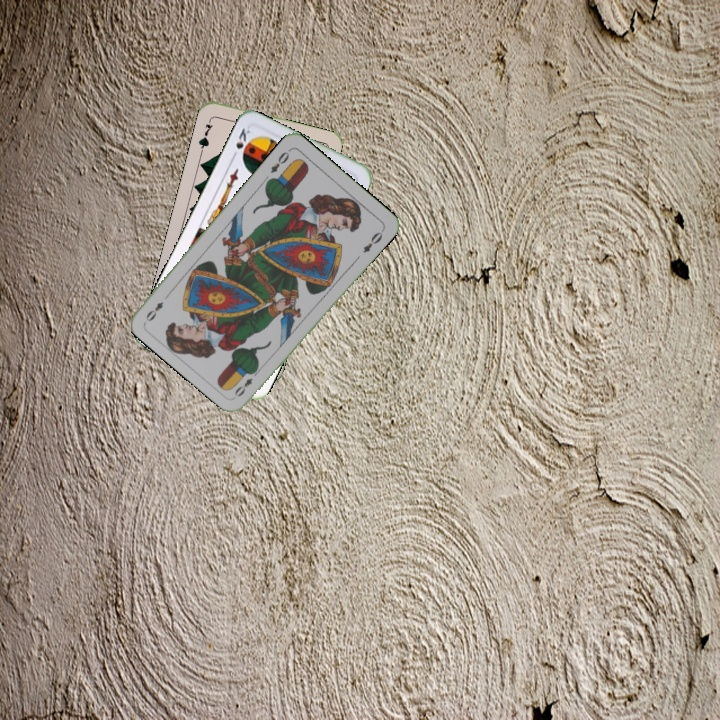EO: (230, 366, 262, 400), (266, 145, 293, 176)
G7: (194, 115, 215, 154)
SK: (228, 124, 253, 162)
